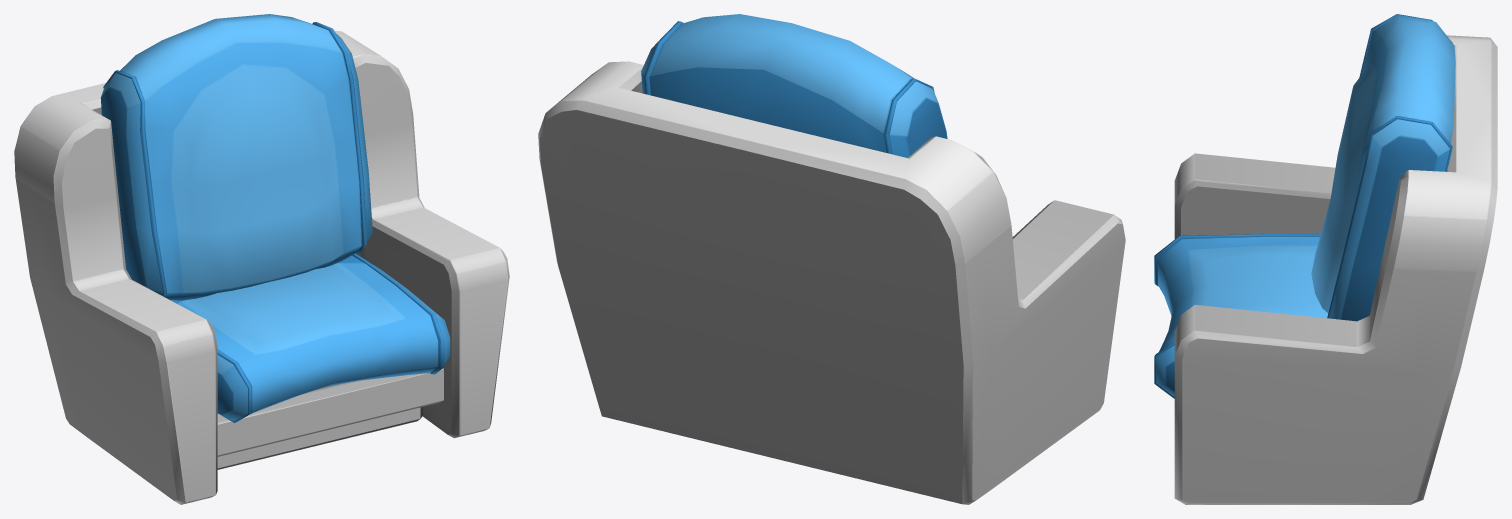
File: housepack_chair_1.FBX
3 renders of one model, left to right at view 1: azimuth 30°, elevation 25°; view 2: azimuth 150°, elevation 25°; view 3: azimuth 270°, elevation 25°, orthographic. The views are drawn at different scales.
Parts seen in each view (by area): view 1: housepack_chair_1; view 2: housepack_chair_1; view 3: housepack_chair_1.
Part boxes in pixels (<box>): housepack_chair_1: <box>14,14,509,504</box>; housepack_chair_1: <box>538,14,1125,504</box>; housepack_chair_1: <box>1154,14,1497,504</box>.
Size of the model in its own units: 62.98 by 61.79 by 49.44.
